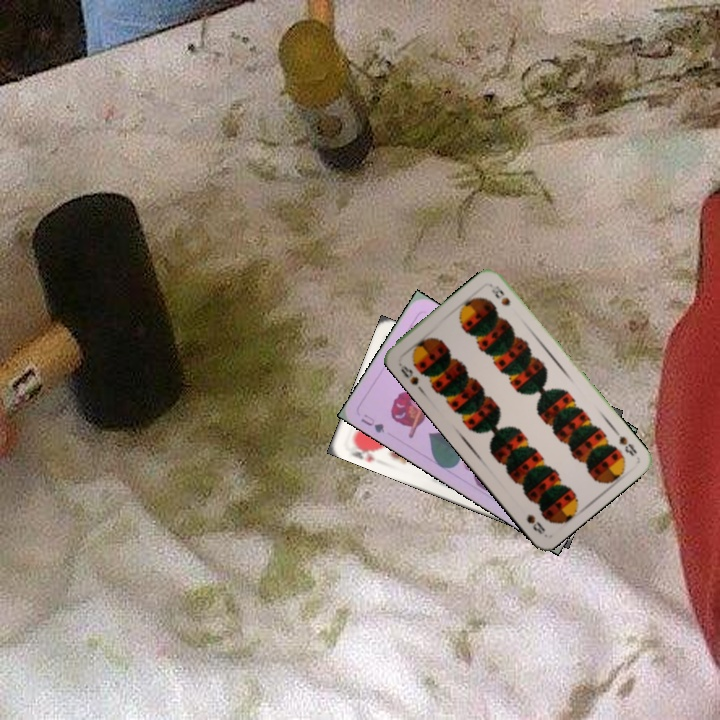GU: (357, 410, 387, 435)
HK: (347, 437, 381, 464)
S8: (610, 425, 640, 459), (394, 359, 421, 388)
